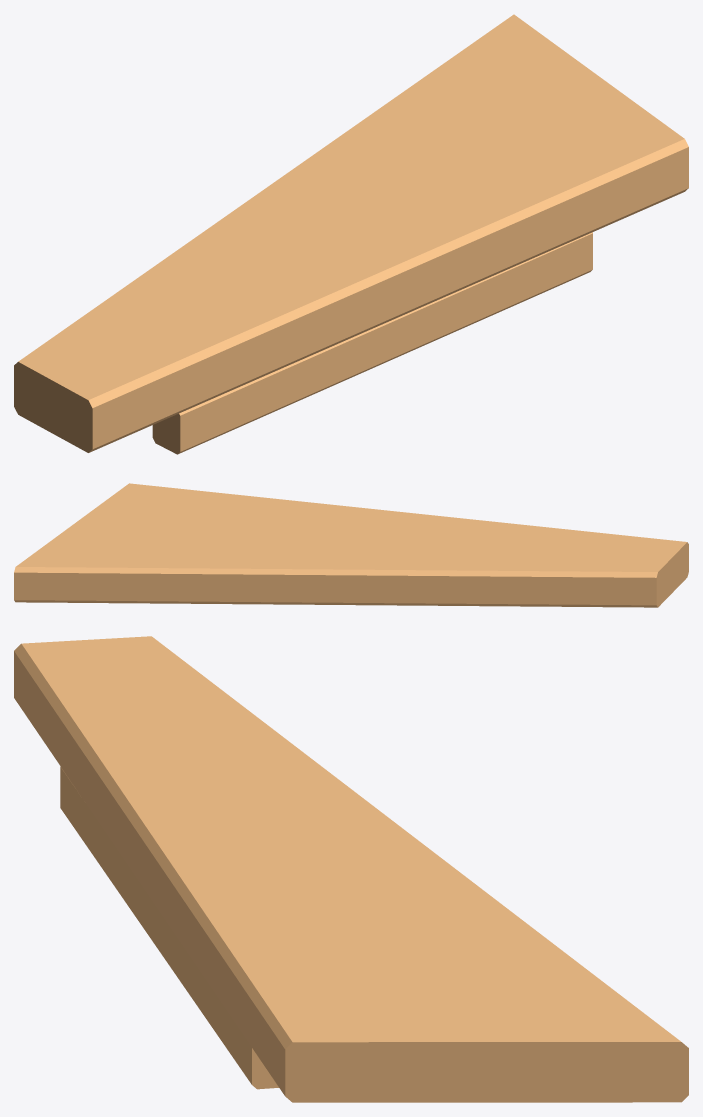
The model's file is stufe 2.fbx.
3 views of the same model, one above another, from view 1: azimuth 30°, elevation 25°; view 2: azimuth 150°, elevation 25°; view 3: azimuth 270°, elevation 25° (orthographic). The views are drawn at different scales.
Visible parts, largest first — view 1: stufe 2; view 2: stufe 2; view 3: stufe 2.
Boxes of the visible parts, <box> form: stufe 2: <box>14,14,688,454</box>; stufe 2: <box>14,483,688,607</box>; stufe 2: <box>14,636,688,1102</box>.
Size of the model in its own units: 262 by 32.56 by 184.
